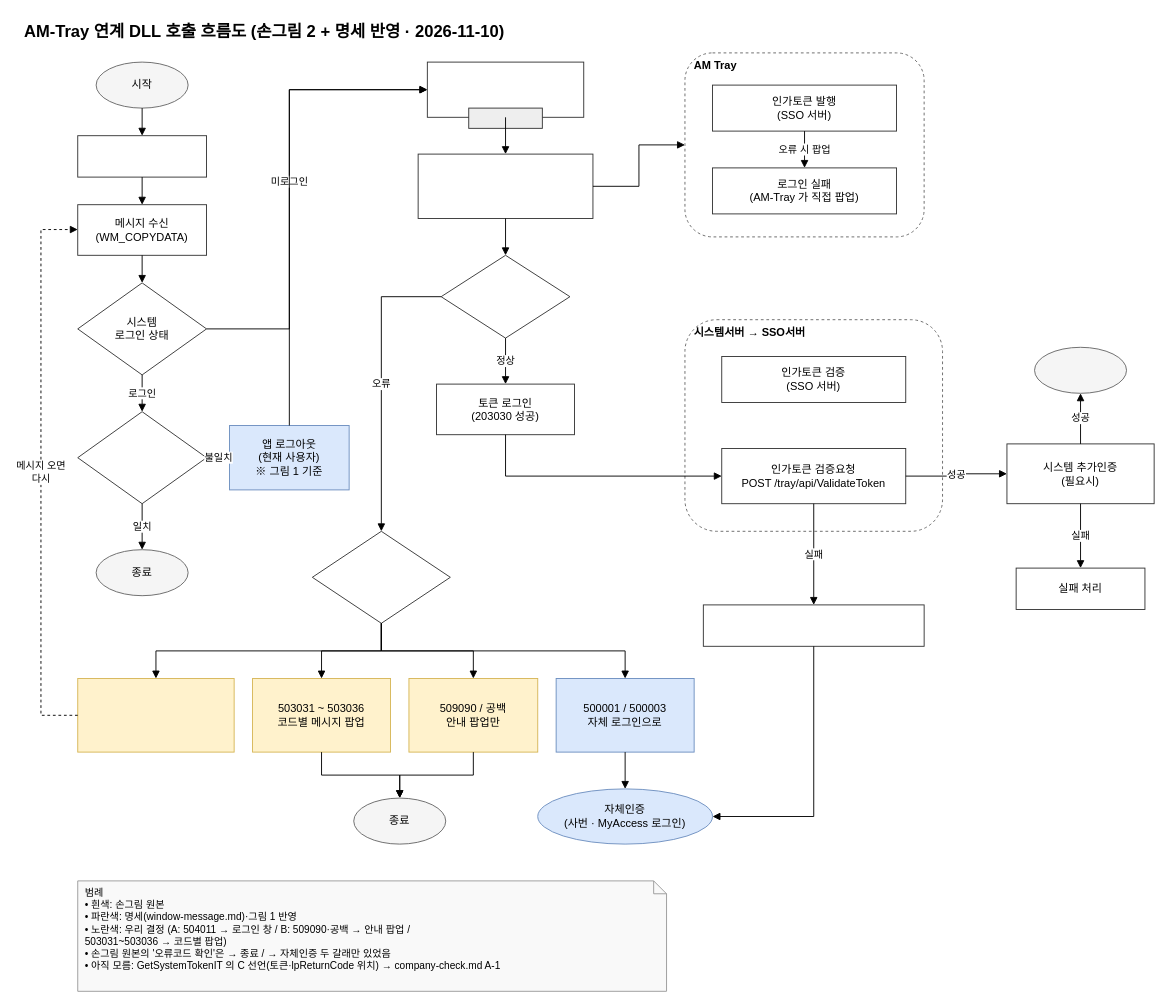
This 1170x1007 diagram has some shape labels left out. The centre of each missing label's shape, as x and y in pixels:
504011 미로그인 AM 로그인 창 (ShowSSOLoginUI) → 로그인 메시지 대기: [155,715]
AM DLL: [505,117]
API 호출 GetSystemTokenIT (ssoKey, sid, systemID): [505,185]
SSO 서버 상태 응답값 표기: [813,625]
시스템 실행: [142,156]
오류코드 확인: [380,576]
완료: [1080,369]
요청 결과: [505,296]
인가토큰 요청: [505,89]
해쉬값 비교: [142,457]
